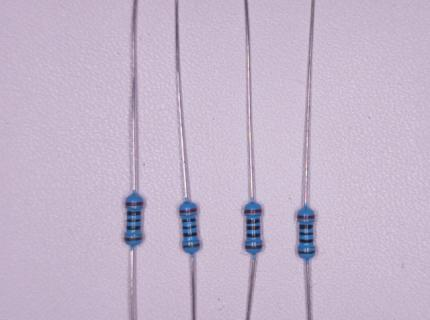Black band: (299, 224, 314, 230), (183, 232, 197, 238), (126, 225, 141, 230), (182, 225, 197, 230), (299, 239, 314, 244), (127, 211, 141, 216), (182, 218, 196, 223), (246, 219, 260, 224), (246, 225, 260, 230), (246, 233, 260, 238), (299, 232, 314, 236), (127, 219, 141, 223)
Brown band: (182, 243, 201, 249), (124, 237, 142, 242), (298, 251, 316, 255), (245, 245, 262, 249)
Red band: (179, 208, 197, 215), (244, 209, 262, 214), (125, 202, 144, 206), (297, 215, 315, 219)
